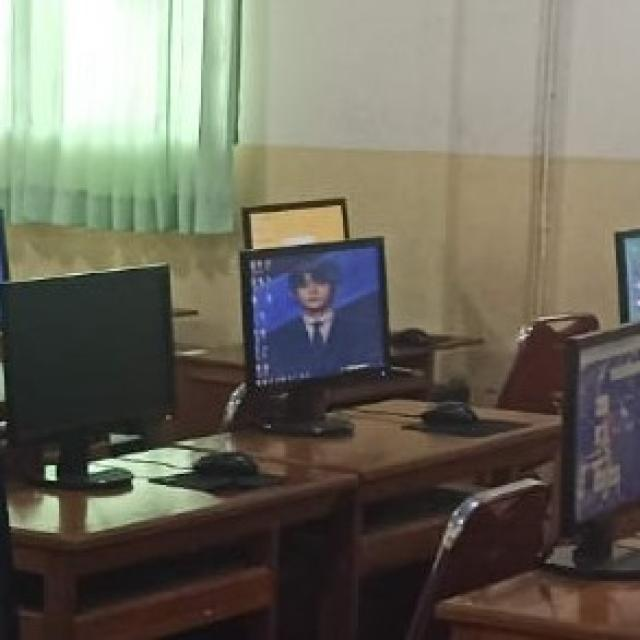offscreen: (9, 265, 171, 439)
onscreen: (241, 238, 389, 386), (562, 324, 640, 531)
